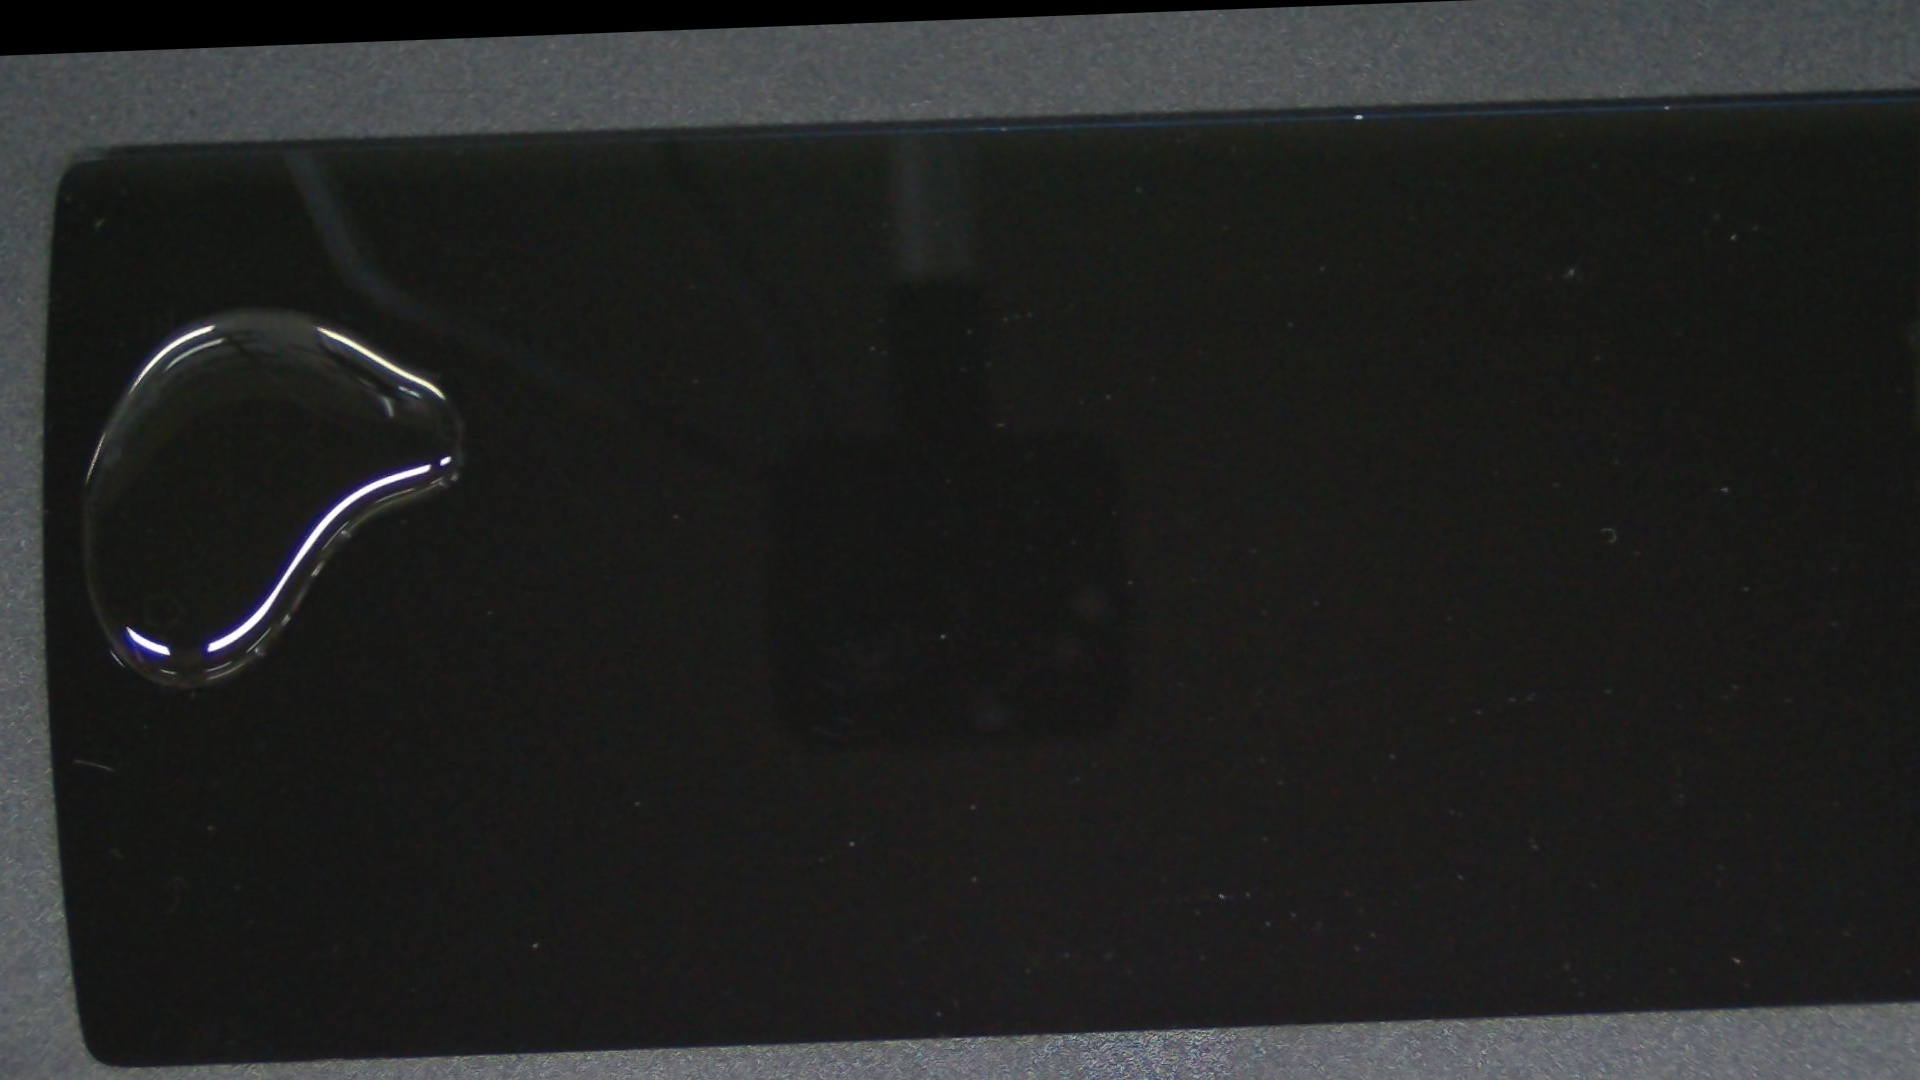oil: (80, 170, 442, 446)
